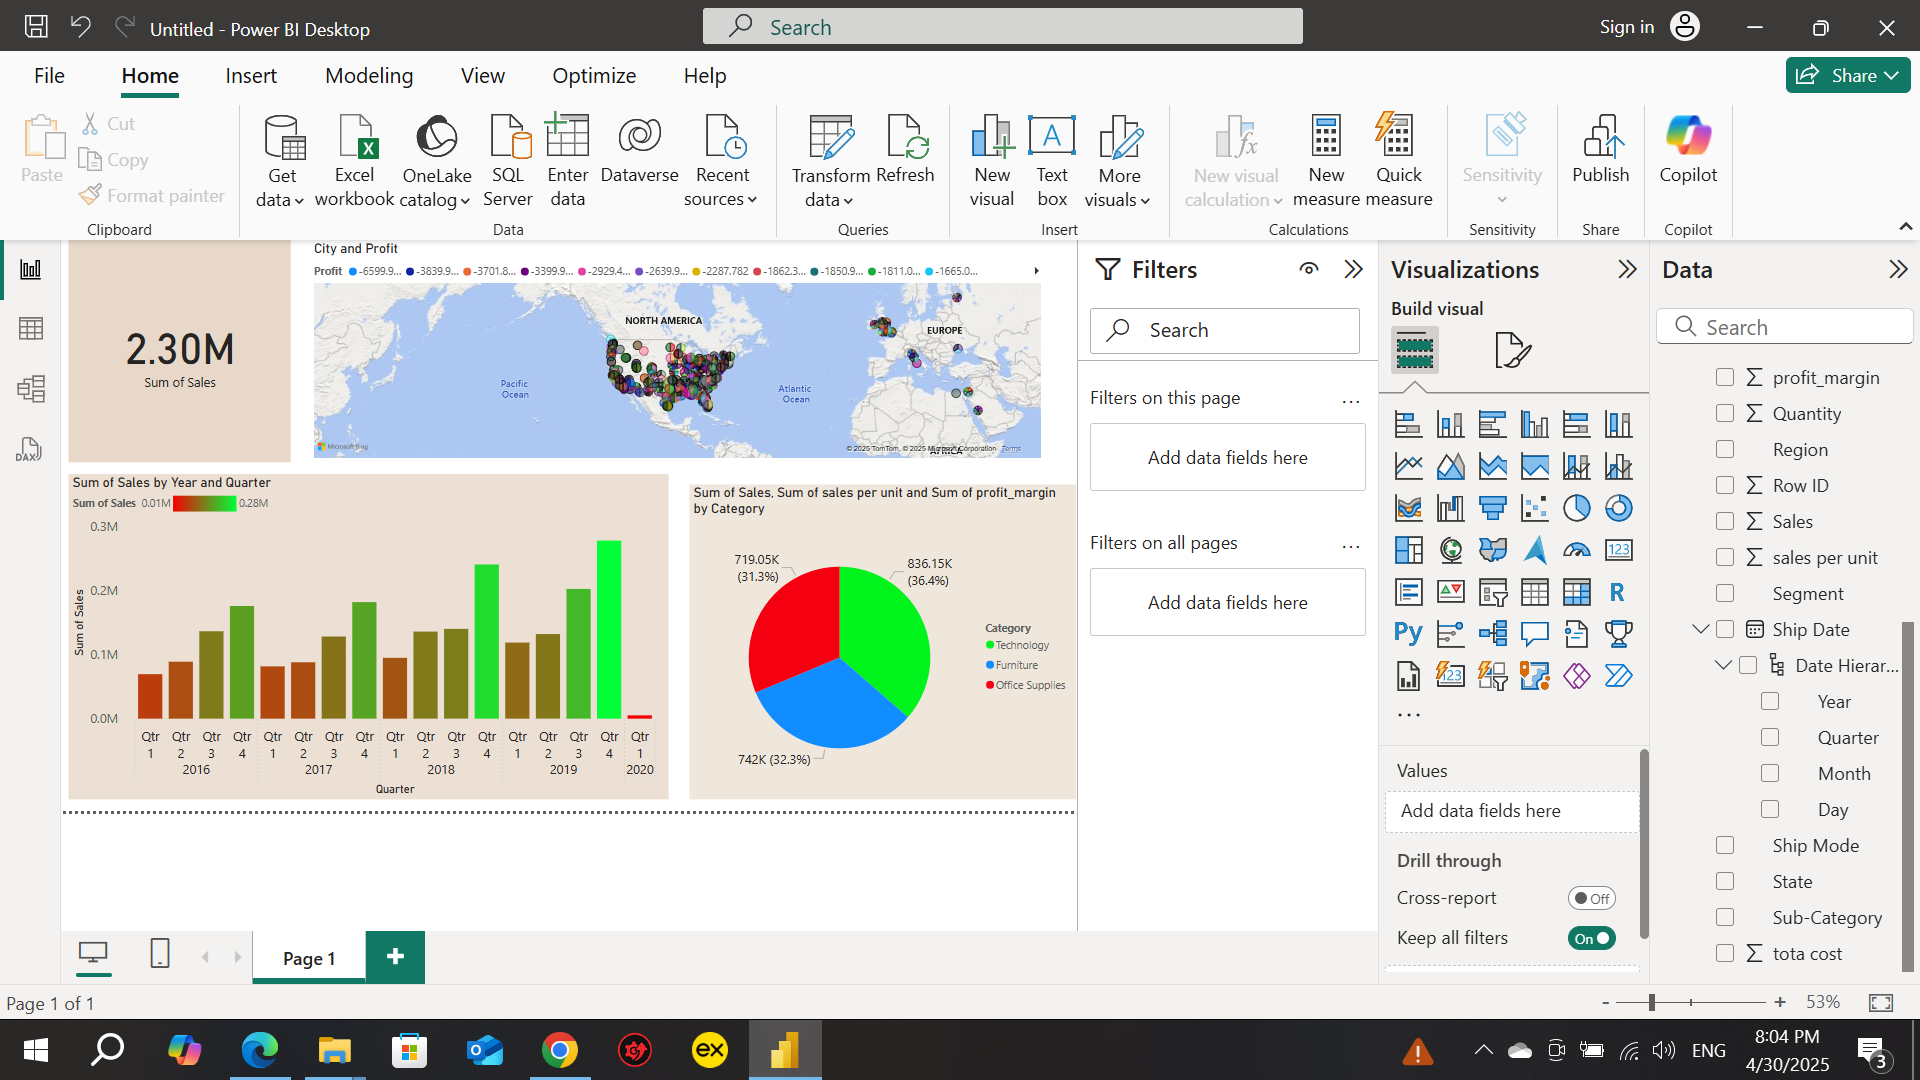

What the dashboard file says about the page in this screenshot:
{"tool":"powerbi","page":{"name":"Page 1","canvas":[1280,720],"ordinal":0},"visuals":[{"type":"card","fields":{"Values":["Sum(cleaned_data.Sales)"]},"box":[10,0,280,280],"z":0},{"type":"columnChart","fields":{"Y":["Sum(cleaned_data.Sales)"],"Category":["cleaned_data.Ship Date.Variation.Date Hierarchy.Year","cleaned_data.Ship Date.Variation.Date Hierarchy.Quarter"]},"box":[9.4,294.8,755.9,410.1],"z":1},{"type":"map","fields":{"Category":["cleaned_data.City"],"Series":["cleaned_data.Profit"]},"box":[313.7,0,926,279.7],"z":2},{"type":"pieChart","fields":{"Category":["cleaned_data.Category"],"Y":["Sum(cleaned_data.Sales)"]},"box":[791.8,308,487.6,396.9],"z":3}]}

Visuals, with their boxes on the page's 1280x720 design canvas (x1, y1, x2, y2). These are canvas units, not pixel positions in the 1920x1080 screenshot, which may show the page scaled, cropped or inside an application window:
card - Sum(cleaned_data.Sales): (10, 0, 290, 280)
columnChart - Sum(cleaned_data.Sales) x cleaned_data.Ship Date.Variation.Date Hierarchy.Year: (9, 295, 765, 705)
map - cleaned_data.City x cleaned_data.Profit: (314, 0, 1240, 280)
pieChart - cleaned_data.Category x Sum(cleaned_data.Sales): (792, 308, 1279, 705)
